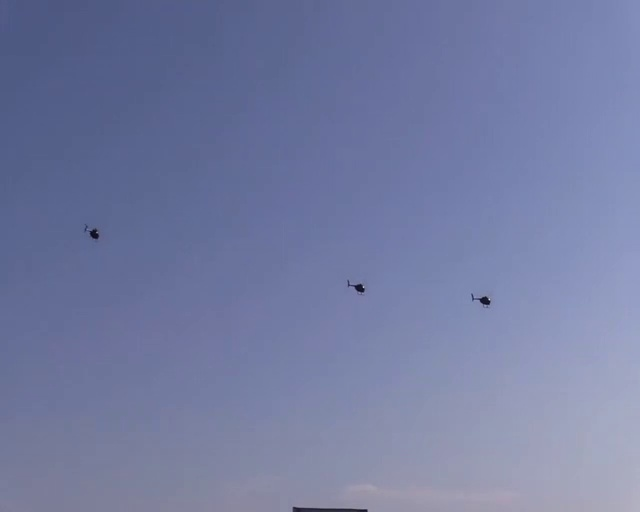HELICOPTER: (347, 279, 365, 294)
